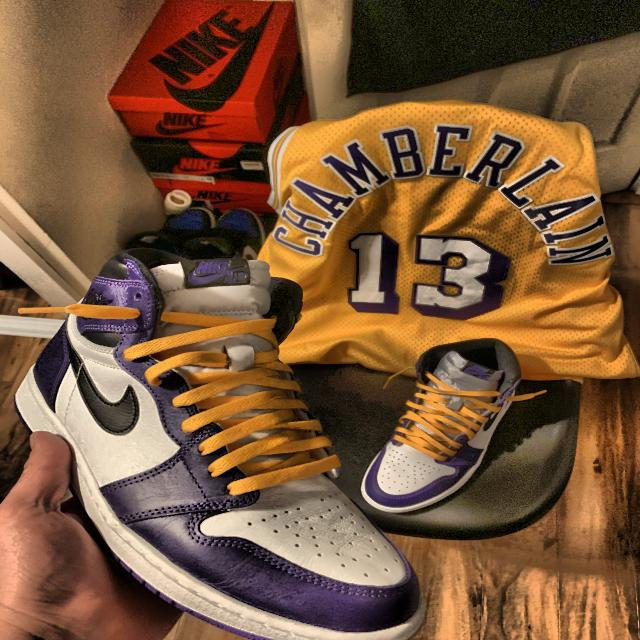Casual_Sneakers: (12, 245, 424, 640), (359, 338, 525, 513)
